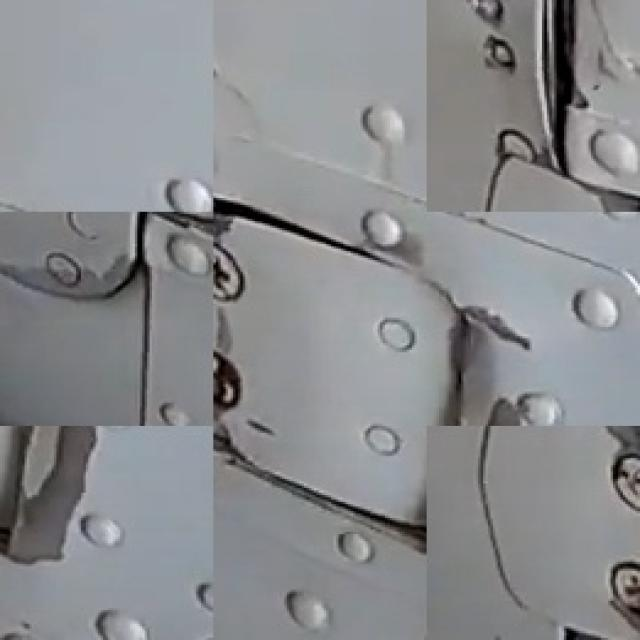Crack: (208, 306, 238, 359)
